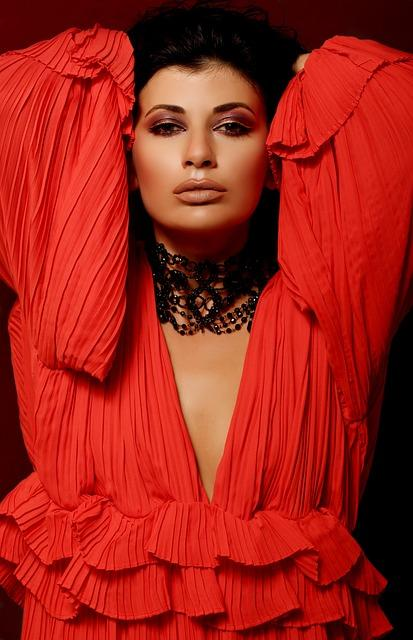Non_Gorille: (8, 16, 413, 640)
